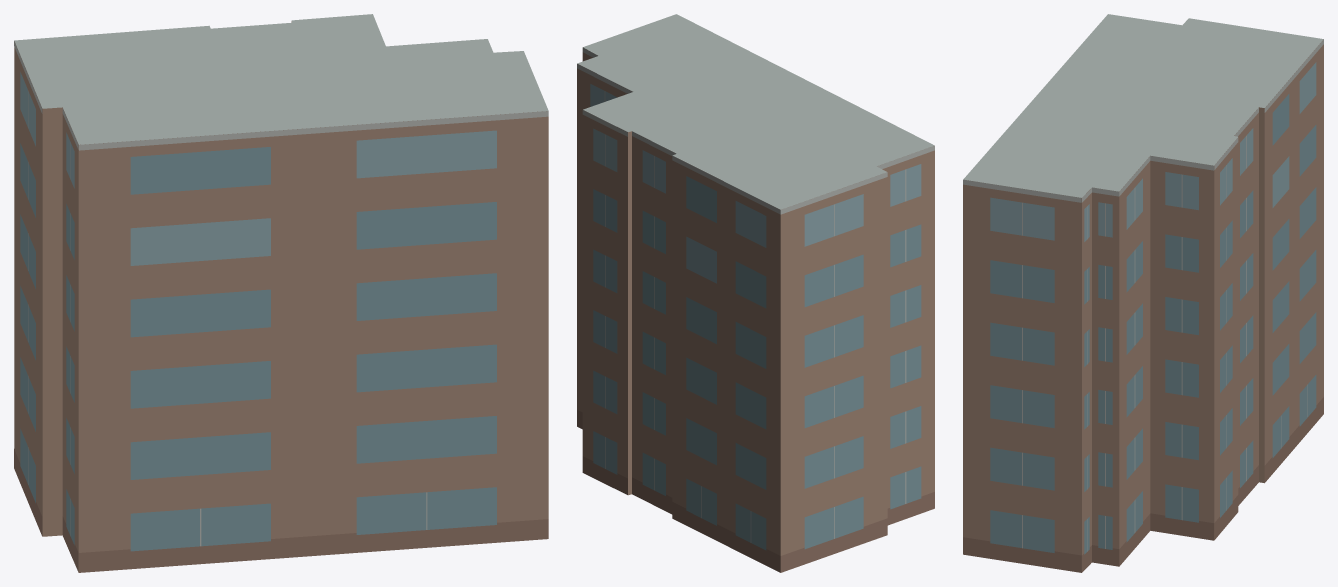
Rendered from survey-upis-32912205.glb.
3 renders of one model, left to right at view 1: azimuth 30°, elevation 25°; view 2: azimuth 150°, elevation 25°; view 3: azimuth 270°, elevation 25°, orthographic. The views are drawn at different scales.
Parts seen in each view (by area): view 1: survey-upis-32912205.tmp; view 2: survey-upis-32912205.tmp; view 3: survey-upis-32912205.tmp.
Boxes of the visible parts, left/top/right/bottom form: survey-upis-32912205.tmp: left=14, top=14, right=548, bottom=572; survey-upis-32912205.tmp: left=577, top=14, right=934, bottom=572; survey-upis-32912205.tmp: left=963, top=14, right=1323, bottom=572.
Bounding box in the file's own units: 19.25 × 18.3 × 15.97.
